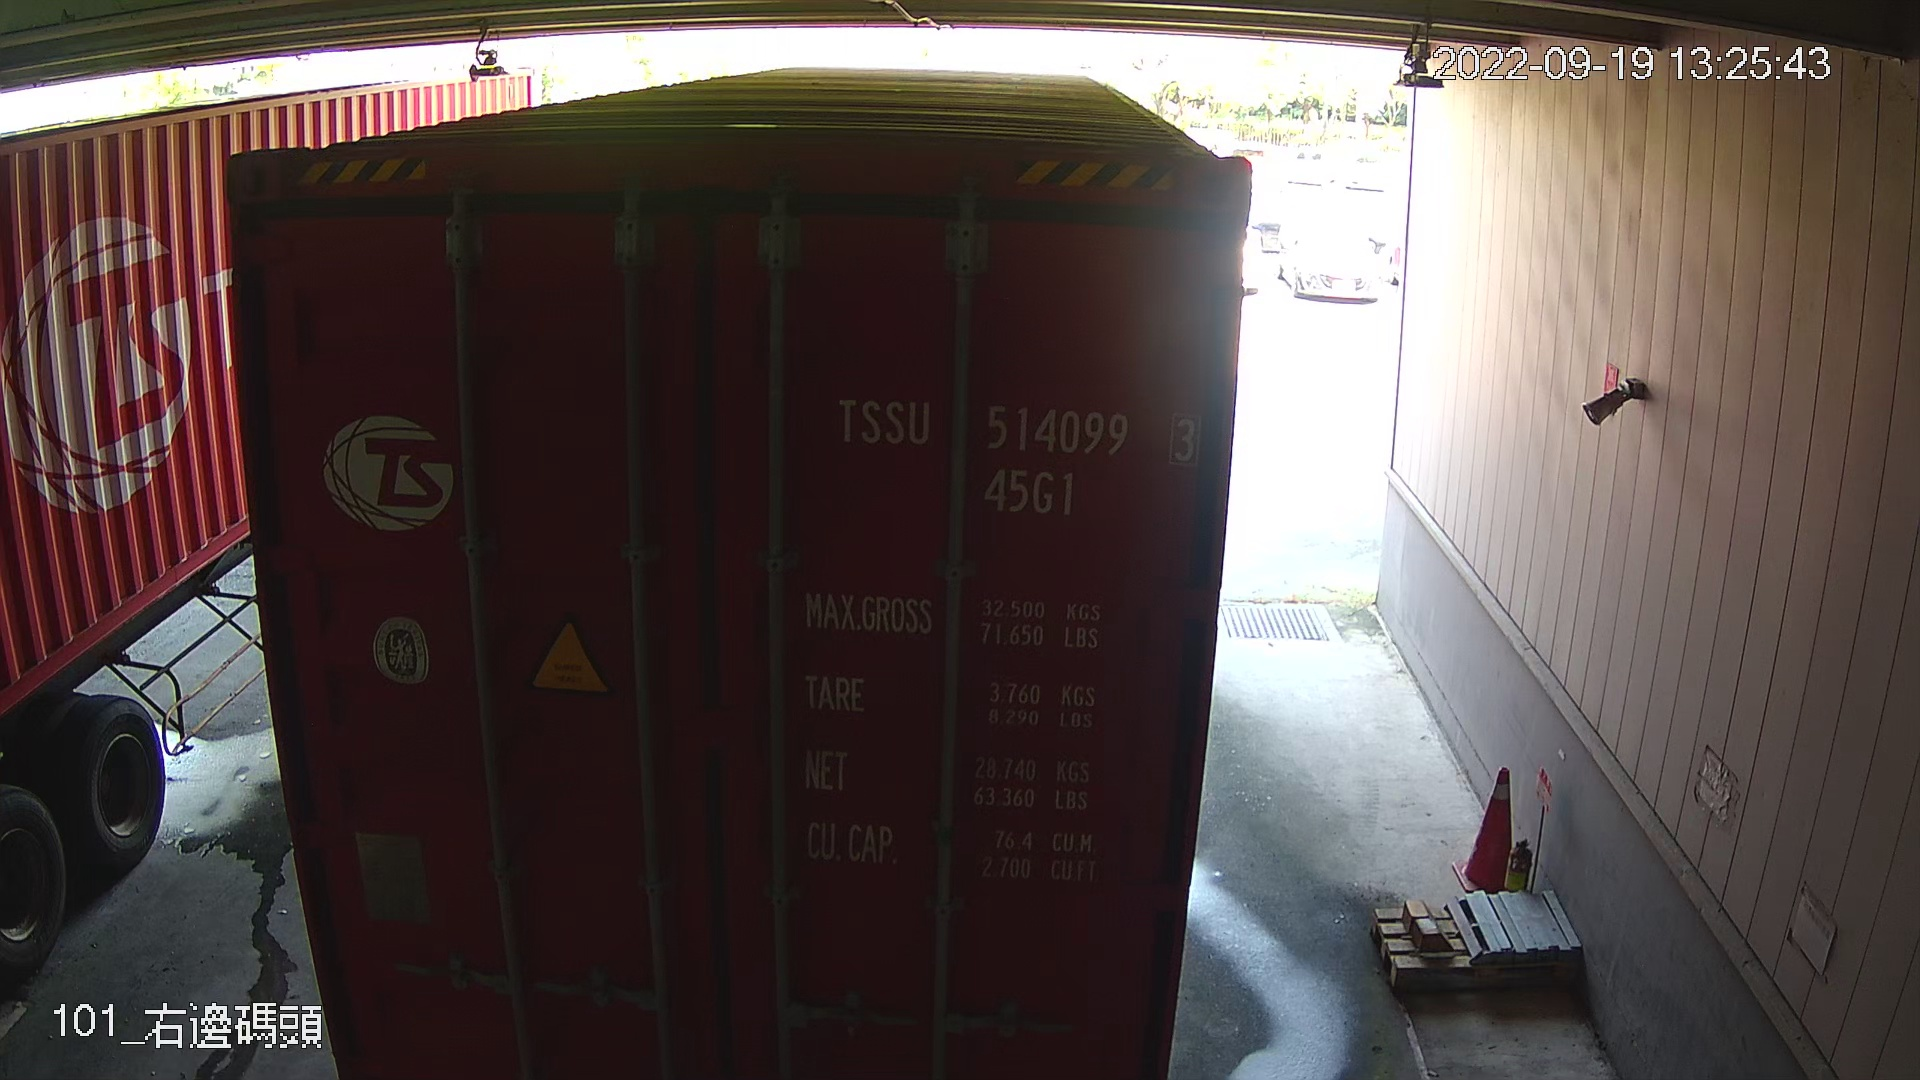container: (816, 385, 1204, 522)
